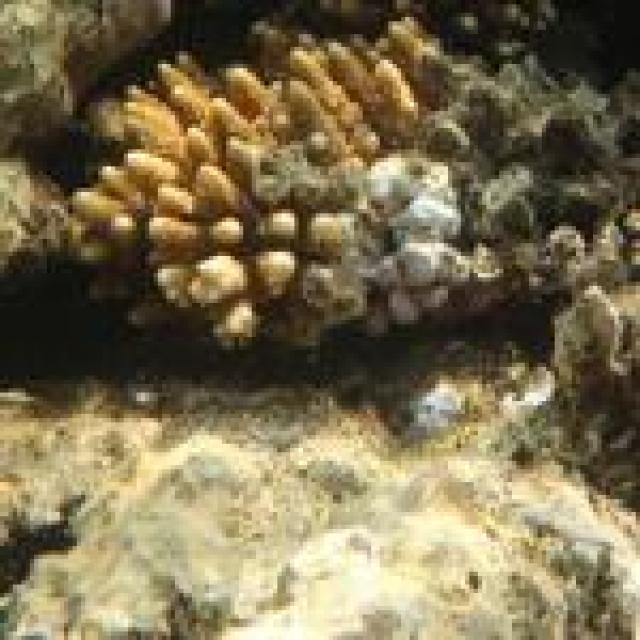Bleached Coral: (371, 155, 506, 335)
Healthy Coral: (72, 30, 391, 330)
